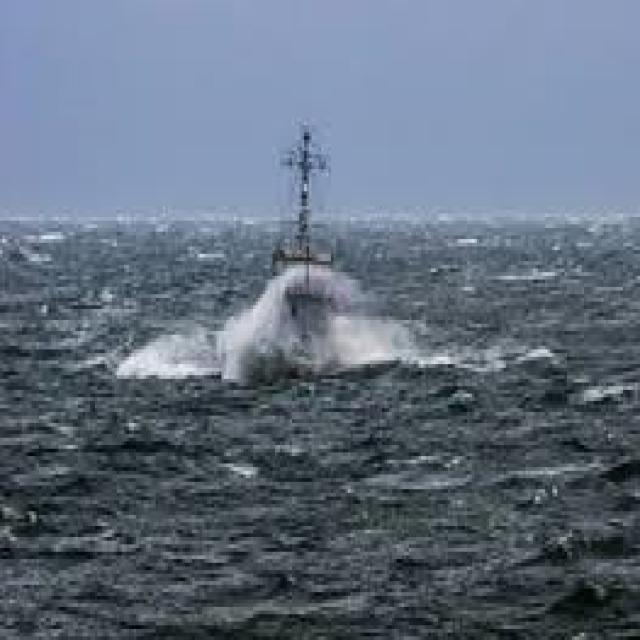navalvessels: (267, 109, 342, 380)
